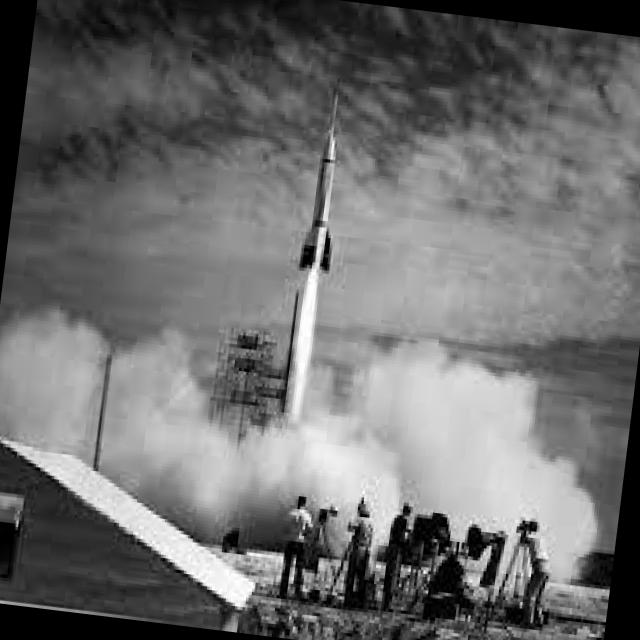rocket: (269, 74, 359, 428)
